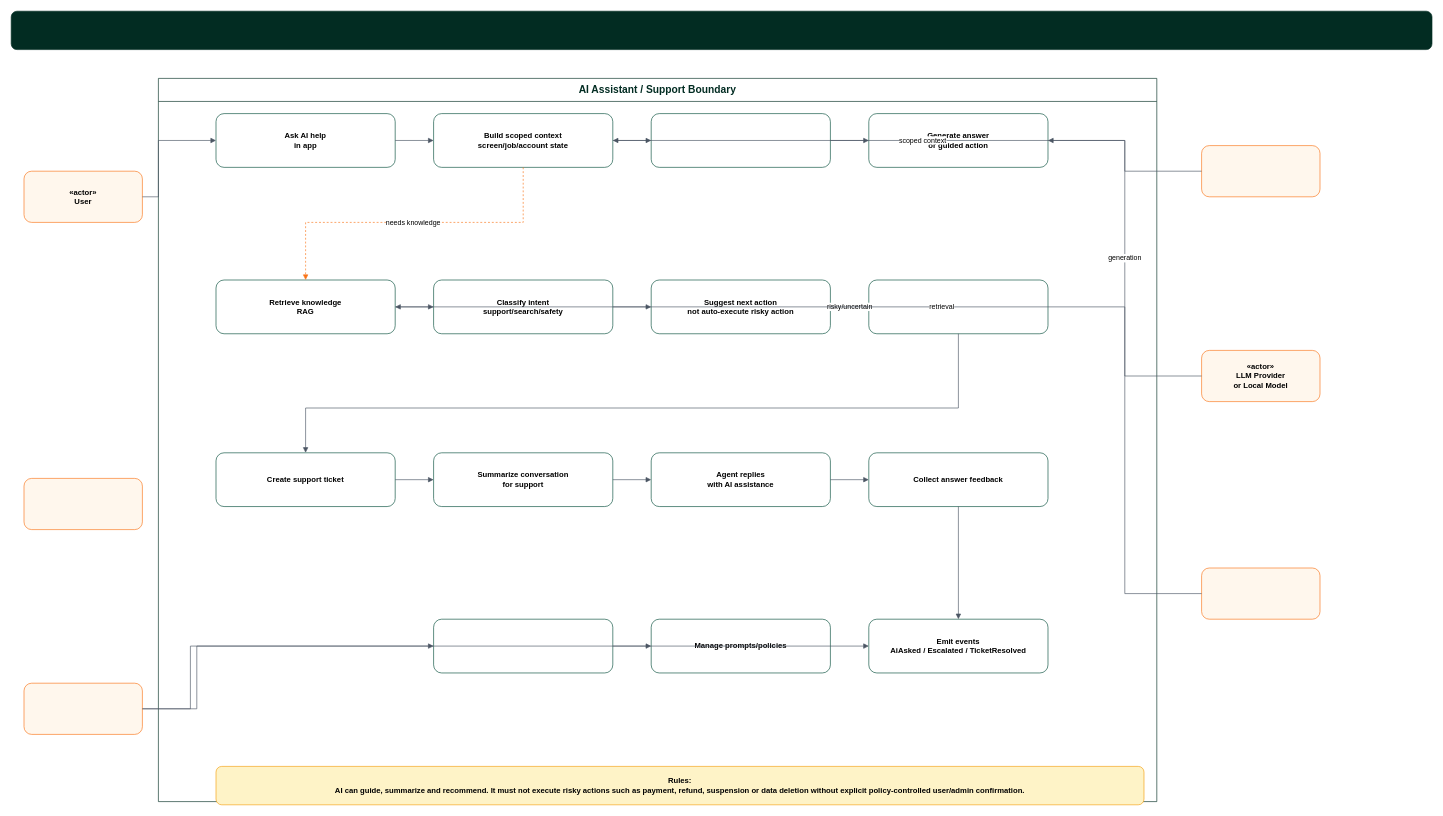
Some shapes in this 1443 by 816 pixel diagram are drawn without their labels. Each missing label, with the box of its shape:
Apply safety/privacy guardrails: (651, 113, 830, 167)
Escalate to human support: (868, 279, 1048, 334)
Run quality/safety evals: (433, 619, 613, 673)
Viaverse AI Assistant / Support / Safety Intelligence — Use Case Diagram: (11, 11, 1432, 50)
«actor» AI/Ops Admin: (23, 683, 142, 734)
«actor» Domain Services: (1201, 145, 1320, 197)
«actor» Knowledge Base Docs / Policies / FAQs: (1201, 567, 1320, 619)
«actor» Support Agent: (23, 478, 142, 530)
